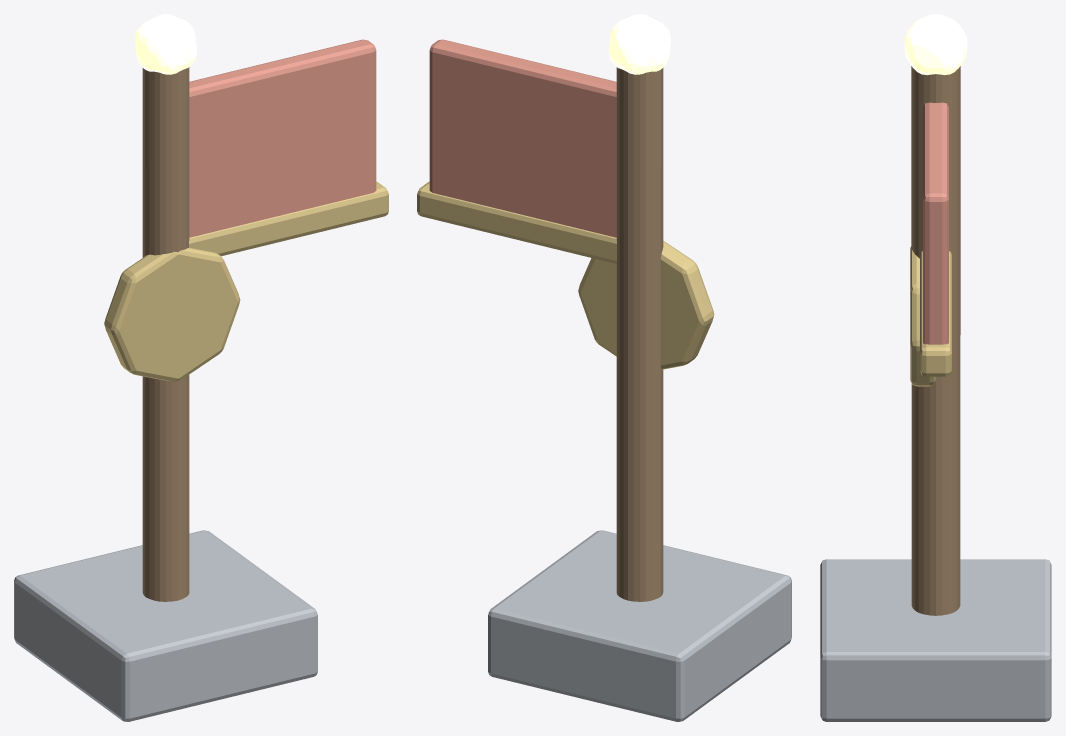
Rendered from turret_banner.glb.
3 views of the same model, side by side, from view 1: azimuth 30°, elevation 25°; view 2: azimuth 150°, elevation 25°; view 3: azimuth 270°, elevation 25° (orthographic). The views are drawn at different scales.
Parts seen in each view (by area): view 1: turret_banner; view 2: turret_banner; view 3: turret_banner.
Part boxes in pixels (box(x1,y1,x2,y2)): turret_banner: box(14, 14, 388, 721); turret_banner: box(417, 14, 791, 721); turret_banner: box(820, 14, 1051, 721).
Size of the model in its own units: 0.58 by 1.13 by 0.36.
